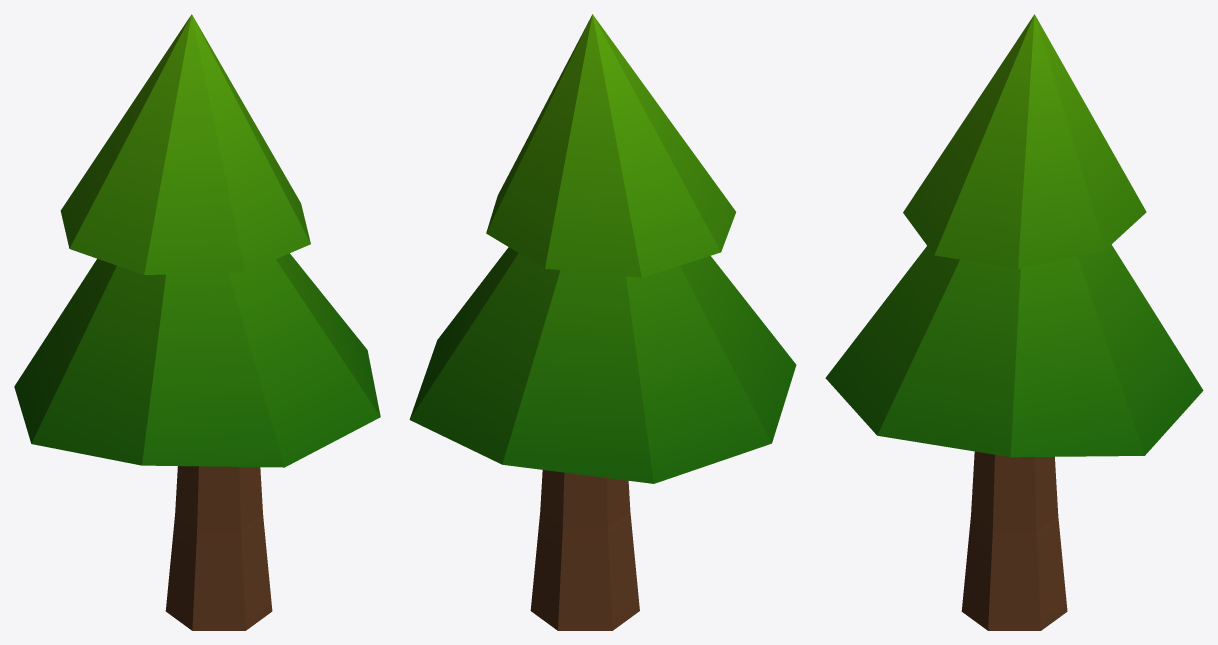
Rendered from tree_pine_3.fbx.
3 views of the same model, side by side, from view 1: azimuth 30°, elevation 25°; view 2: azimuth 150°, elevation 25°; view 3: azimuth 270°, elevation 25° (orthographic). The views are drawn at different scales.
Visible parts, largest first — view 1: tree_pine_3; view 2: tree_pine_3; view 3: tree_pine_3.
Boxes of the visible parts, <box> form: tree_pine_3: <box>14,14,380,630</box>; tree_pine_3: <box>409,14,796,630</box>; tree_pine_3: <box>825,14,1203,630</box>.
Bounding box in the file's own units: 1.18 × 2.01 × 1.17.
